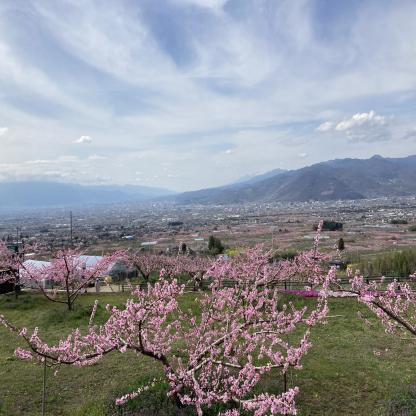Momo: (0, 219, 349, 416), (337, 257, 416, 340), (28, 243, 121, 300), (217, 244, 302, 292), (0, 235, 40, 297), (166, 243, 220, 286), (114, 245, 171, 282)
